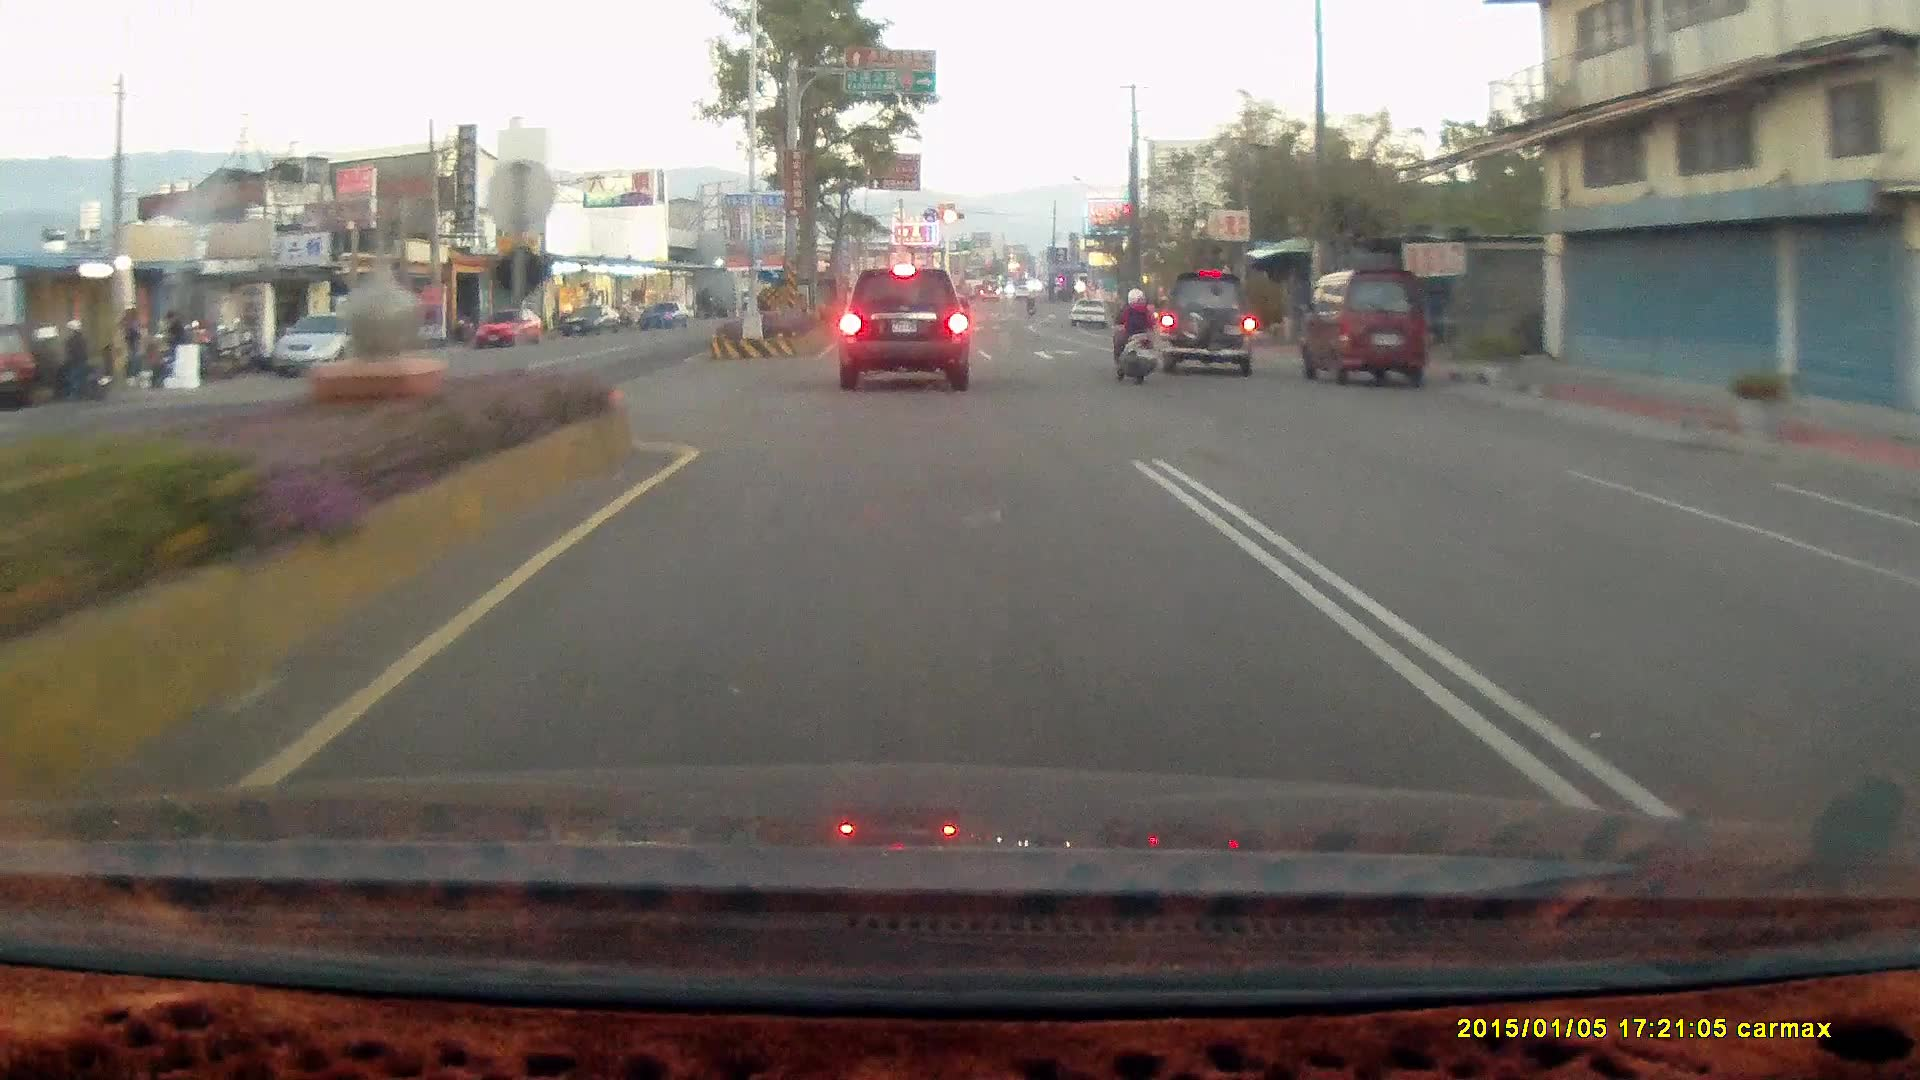pedestrian: (160, 308, 190, 376)
rider: (1110, 289, 1156, 389)
vehicle: (836, 267, 968, 390), (1306, 265, 1433, 390), (1294, 266, 1426, 388), (1156, 271, 1267, 377), (1158, 269, 1254, 375), (270, 311, 389, 383), (1896, 493, 1920, 836), (270, 310, 386, 378), (1883, 528, 1920, 690), (472, 307, 544, 349), (1068, 297, 1107, 328)
